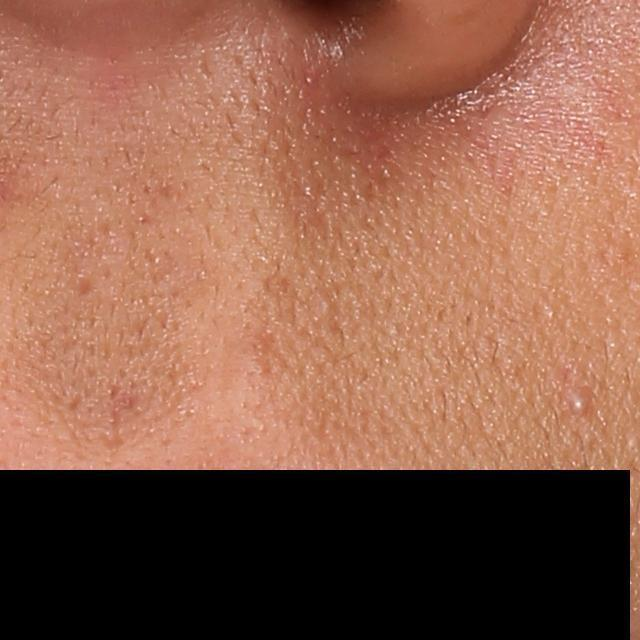atrophic_scar: (100, 382, 142, 464), (71, 276, 98, 305), (61, 389, 88, 416)
pustule: (568, 387, 588, 415)
